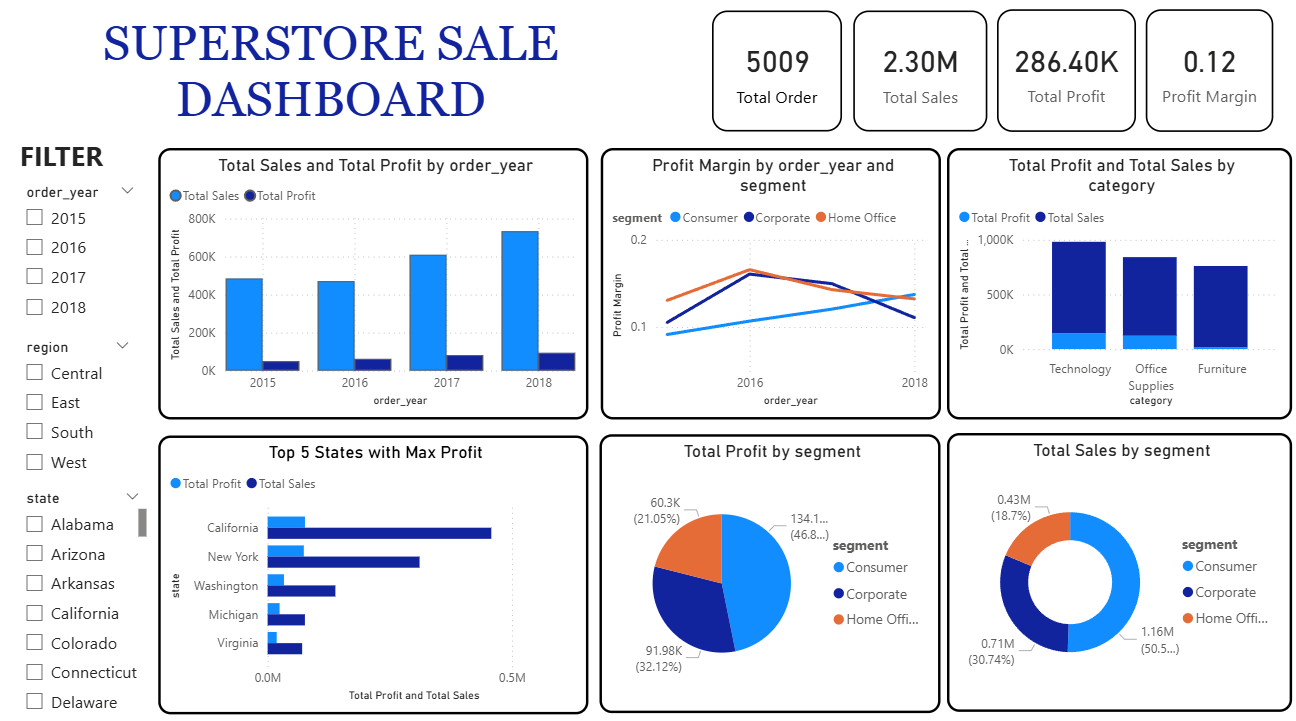

This screenshot's page, from the dashboard's own definition file:
{"tool":"powerbi","page":{"name":"Page 1","canvas":[1280,720],"ordinal":0},"visuals":[{"type":"card","fields":{"Values":["superstore_clean.Total Order"]},"box":[704.9,16.8,127.1,118.6],"z":1000},{"type":"card","fields":{"Values":["superstore_clean.Total Sales"]},"box":[842.1,16.8,131.4,118.6],"z":2000},{"type":"card","fields":{"Values":["superstore_clean.Profit Margin"]},"box":[1128.7,16.1,124.7,119.8],"z":3000},{"type":"card","fields":{"Values":["superstore_clean.Total Profit"]},"box":[983.2,16.1,135.7,119.8],"z":4000},{"type":"lineChart","fields":{"Category":["superstore_clean.order_year"],"Y":["superstore_clean.Profit Margin"],"Series":["superstore_clean.segment"]},"box":[595.8,151.1,332.6,265.4],"z":5000},{"type":"pieChart","fields":{"Y":["superstore_clean.Total Profit"],"Category":["superstore_clean.segment"]},"box":[594.5,431.2,333.8,272.7],"z":6000},{"type":"clusteredBarChart","title":"Top 5 States with Max Profit","fields":{"Category":["superstore_clean.state"],"Y":["superstore_clean.Total Profit","superstore_clean.Total Sales"]},"box":[162.4,433.1,420.7,272.7],"z":7000},{"type":"clusteredColumnChart","fields":{"Category":["superstore_clean.order_year"],"Y":["superstore_clean.Total Sales","superstore_clean.Total Profit"]},"box":[162.4,151.9,420.7,265.4],"z":8000},{"type":"donutChart","fields":{"Y":["superstore_clean.Total Sales"],"Category":["superstore_clean.segment"]},"box":[934.2,430.4,337.5,272.7],"z":9000},{"type":"textbox","box":[67.3,17.1,528.3,122.3],"z":10000},{"type":"slicer","fields":{"Values":["superstore_clean.order_year"]},"box":[20.8,181,130.8,151.6],"z":11000},{"type":"slicer","fields":{"Values":["superstore_clean.state"]},"box":[20.8,480.6,135.7,226.2],"z":12000},{"type":"slicer","fields":{"Values":["superstore_clean.region"]},"box":[20.8,332.6,126,148],"z":13000},{"type":"textbox","box":[2.4,135.7,130.8,46.5],"z":14000},{"type":"columnChart","fields":{"Category":["superstore_clean.category"],"Y":["superstore_clean.Total Profit","superstore_clean.Total Sales"]},"box":[934.2,151.6,337.5,265.4],"z":15000}]}

Visuals, with their boxes in screenshot pixels (x1, y1, x2, y2), scaled from the page's 1280x720 canvas onto the 1296x721 screenshot:
card - superstore_clean.Total Order: (714, 17, 842, 136)
card - superstore_clean.Total Sales: (853, 17, 986, 136)
card - superstore_clean.Profit Margin: (1143, 16, 1269, 136)
card - superstore_clean.Total Profit: (995, 16, 1133, 136)
lineChart - superstore_clean.order_year x superstore_clean.Profit Margin: (603, 151, 940, 417)
pieChart - superstore_clean.Total Profit x superstore_clean.segment: (602, 432, 940, 705)
"Top 5 States with Max Profit" clusteredBarChart: (164, 434, 590, 707)
clusteredColumnChart - superstore_clean.order_year x superstore_clean.Total Sales: (164, 152, 590, 418)
donutChart - superstore_clean.Total Sales x superstore_clean.segment: (946, 431, 1288, 704)
textbox: (68, 17, 603, 140)
slicer - superstore_clean.order_year: (21, 181, 153, 333)
slicer - superstore_clean.state: (21, 481, 158, 708)
slicer - superstore_clean.region: (21, 333, 149, 481)
textbox: (2, 136, 135, 182)
columnChart - superstore_clean.category x superstore_clean.Total Profit: (946, 152, 1288, 418)
